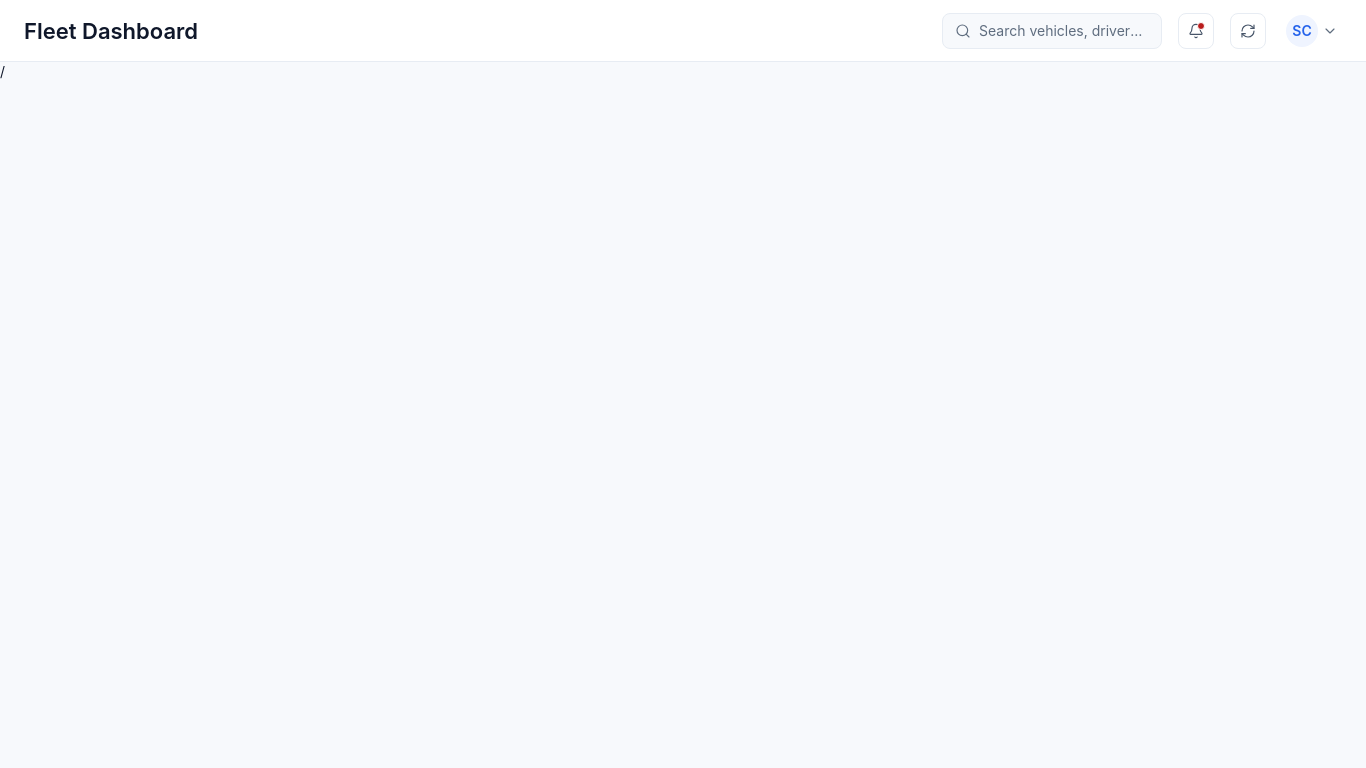
Test case: 11.28 Command palette › F3-21: Enter right after typing never opens the previous term's result
The width and height of the screenshot is (1366, 768).
Step 1. Type keys "{Control>}k{/Control}"
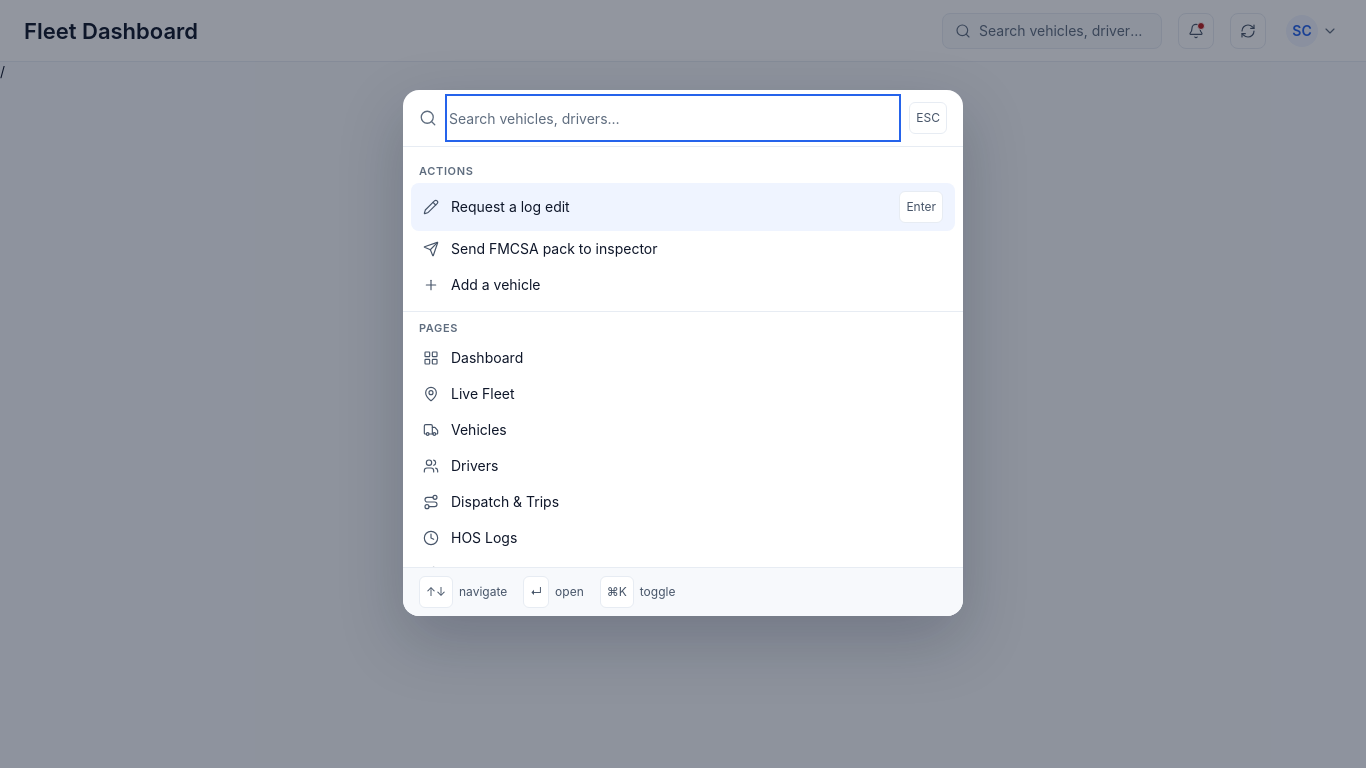
Step 2. Type "smith" into the dropdown → (673, 118), box [449, 98, 897, 138]
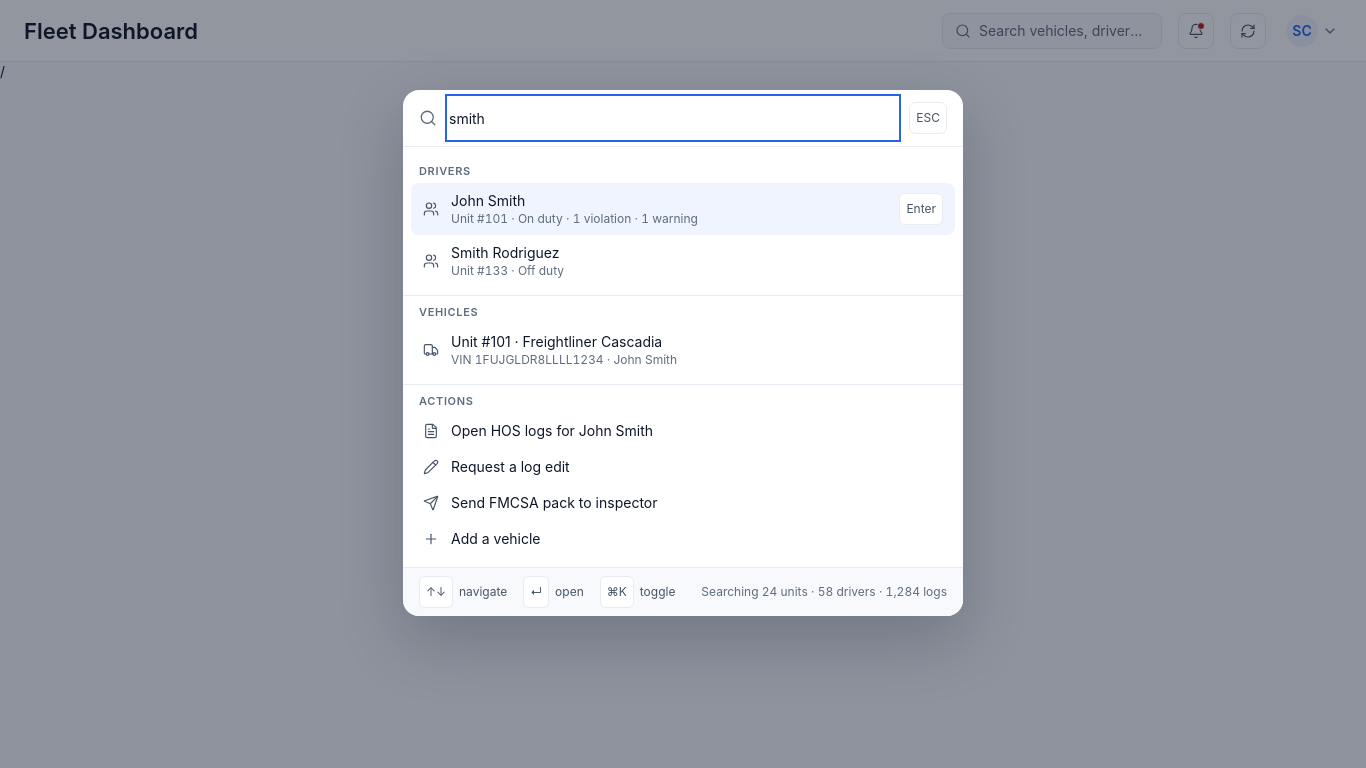
Check: the option that starts with "John Smith" is shown, box [411, 183, 955, 235]
Step 3. Type "zz" into the dropdown → (673, 118), box [449, 98, 897, 138]
Then press Enter
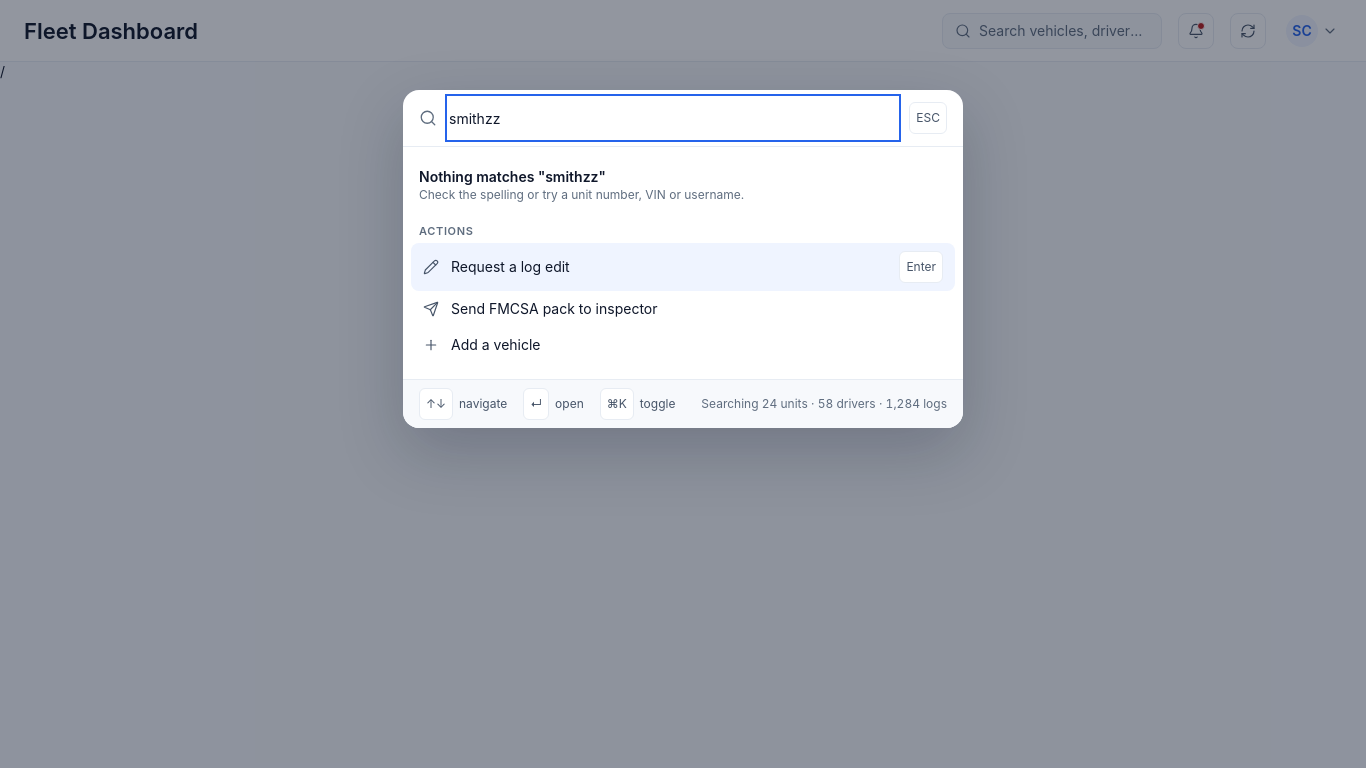
Check: the dialog named "Command palette" is shown, box [403, 90, 963, 428]
Check: the option "John Smith Unit #101 · On duty · 1 violation · 1 warning" is gone
